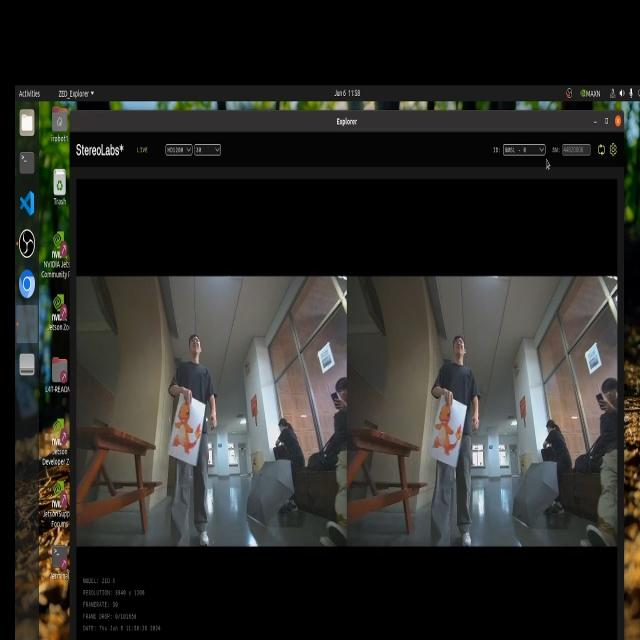red: (432, 398, 462, 462), (176, 401, 204, 466)
